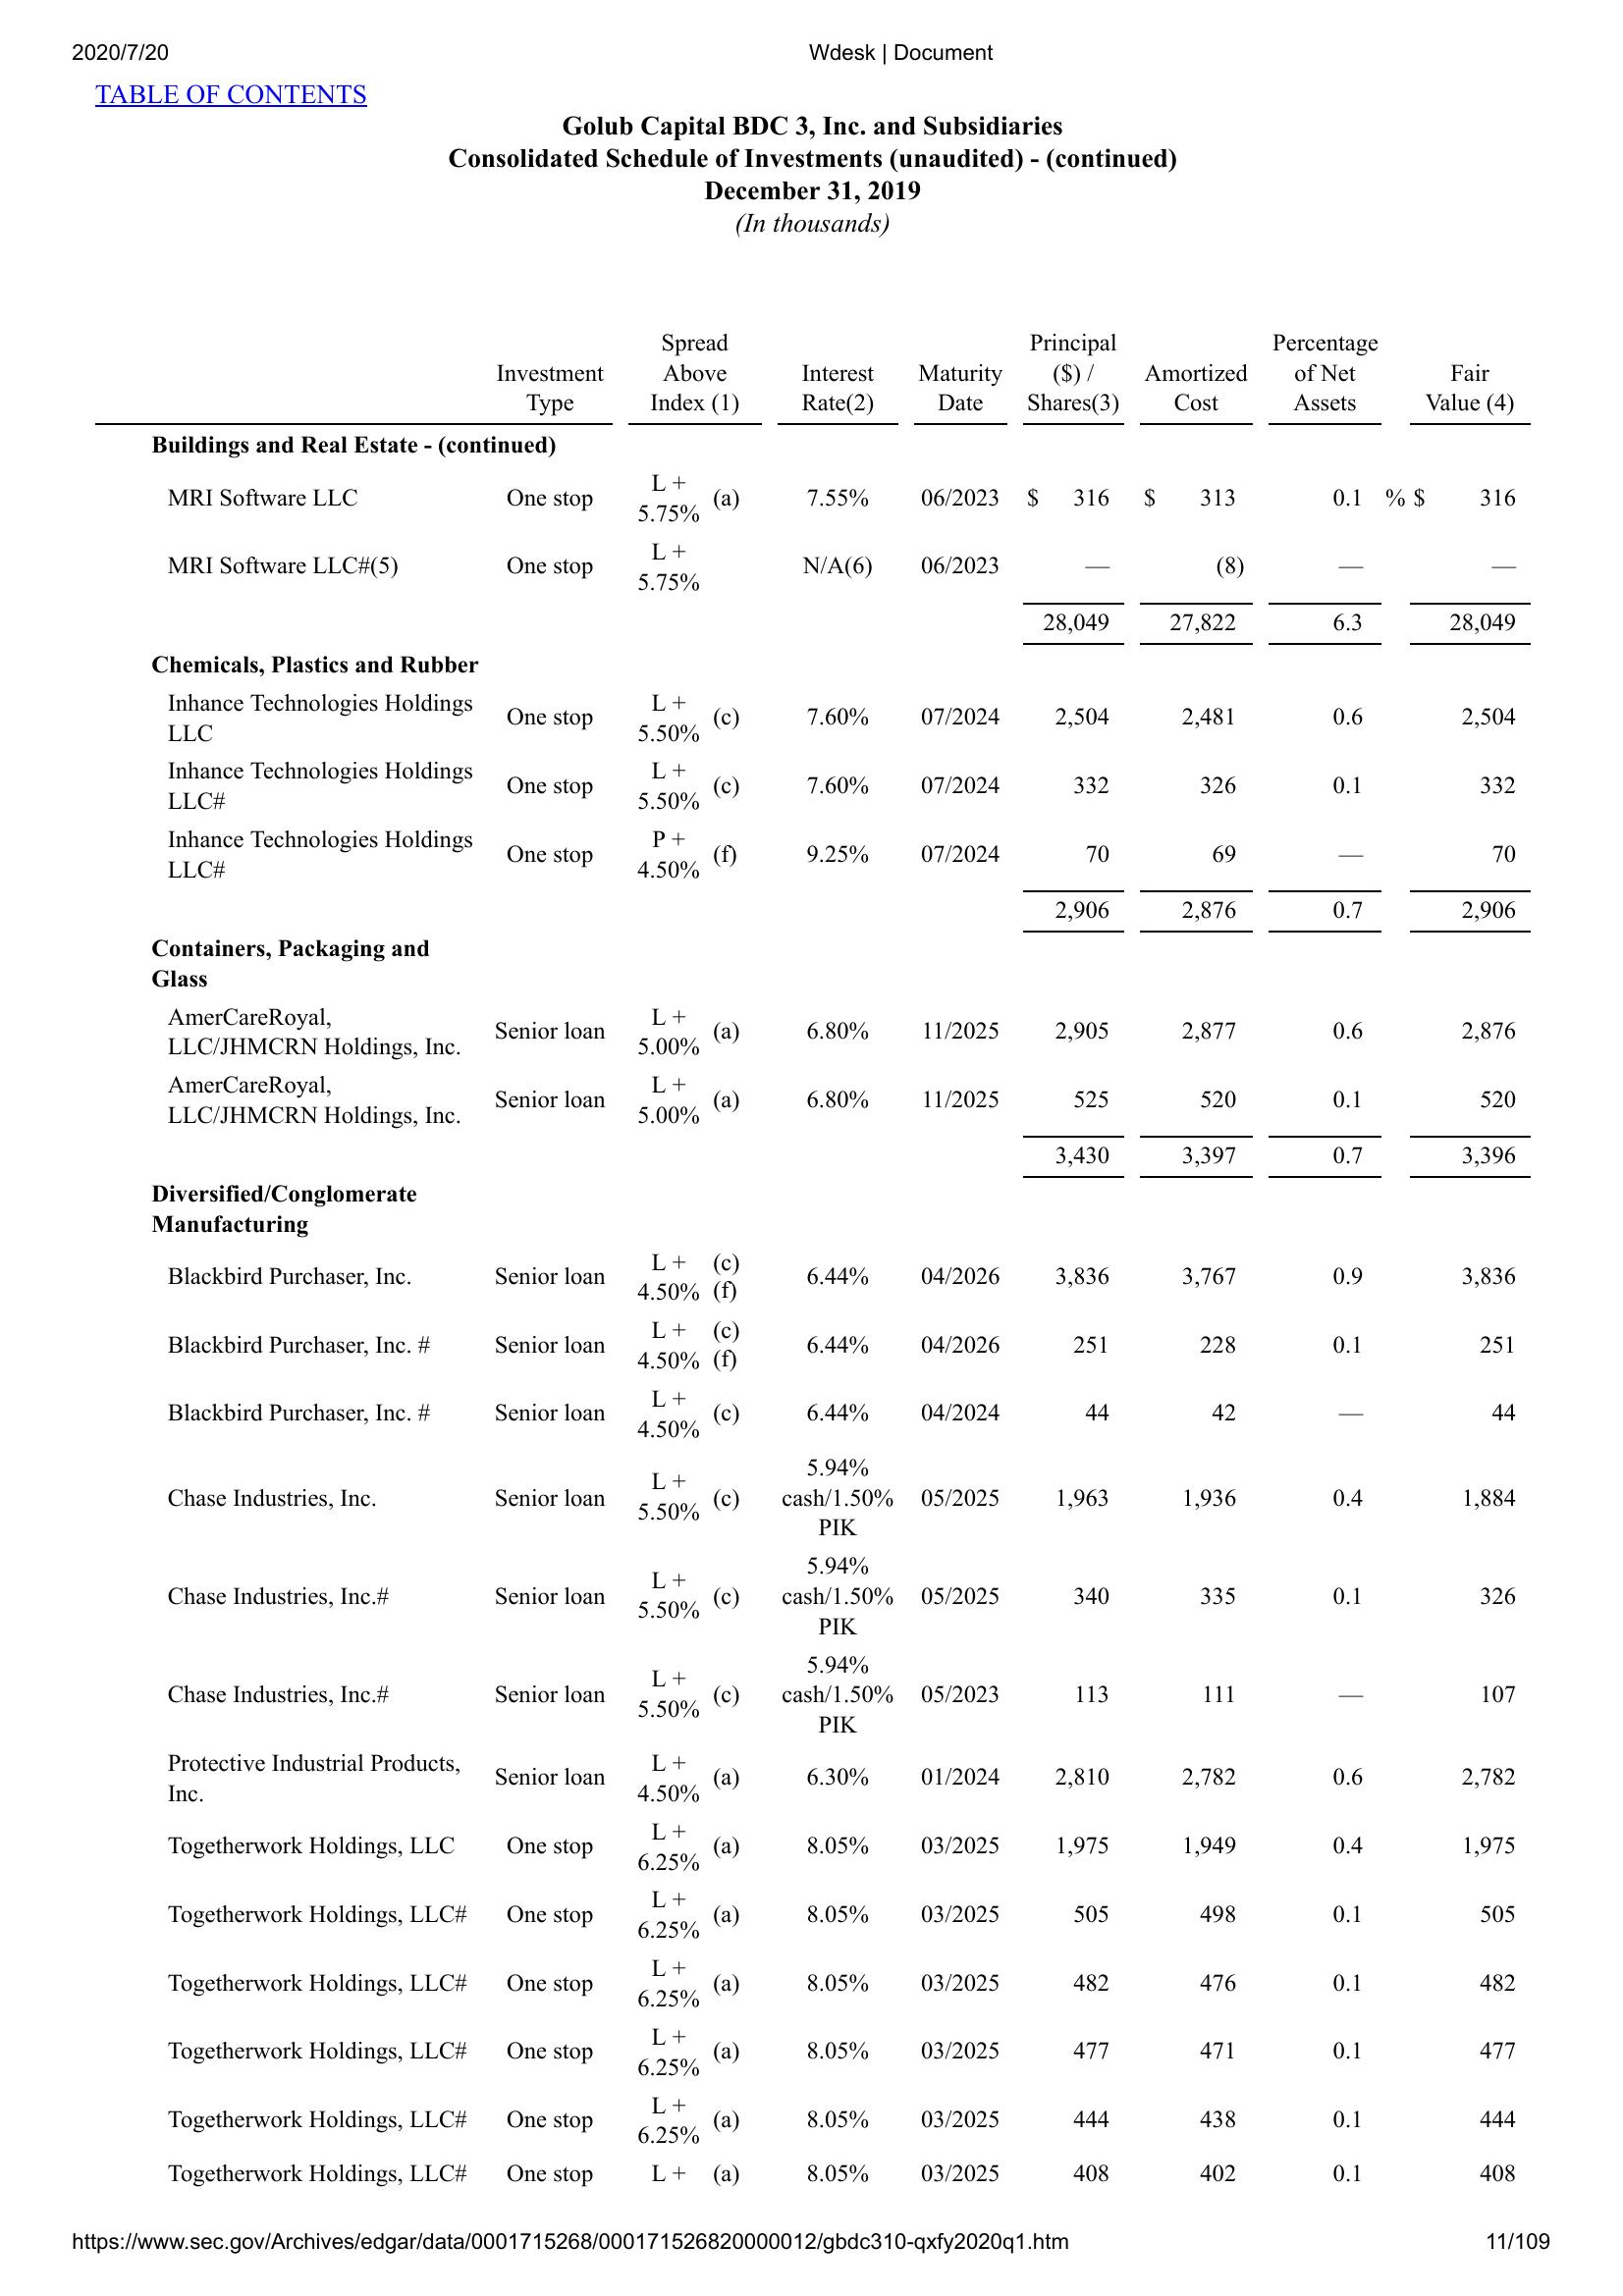table: (98, 319, 1553, 2205)
